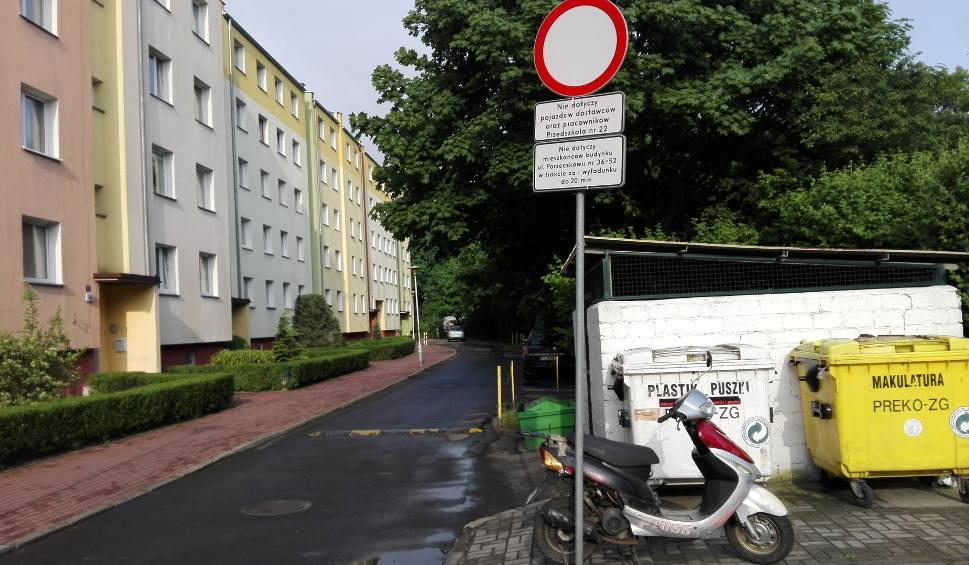no_entry_sign: (532, 2, 629, 97)
